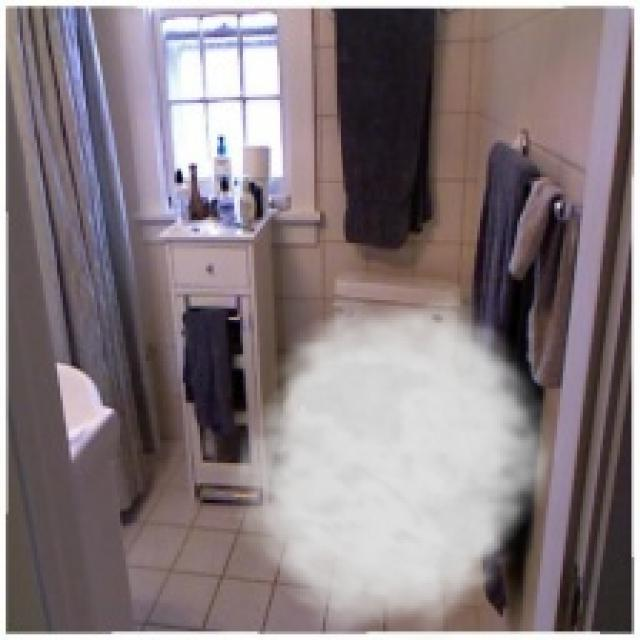Smoke: (220, 282, 566, 638)
